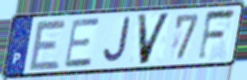7: (174, 12, 199, 62)
E: (27, 19, 69, 72), (63, 16, 101, 69)
F: (196, 7, 238, 63)
J: (102, 16, 132, 66)
V: (135, 11, 173, 67)
